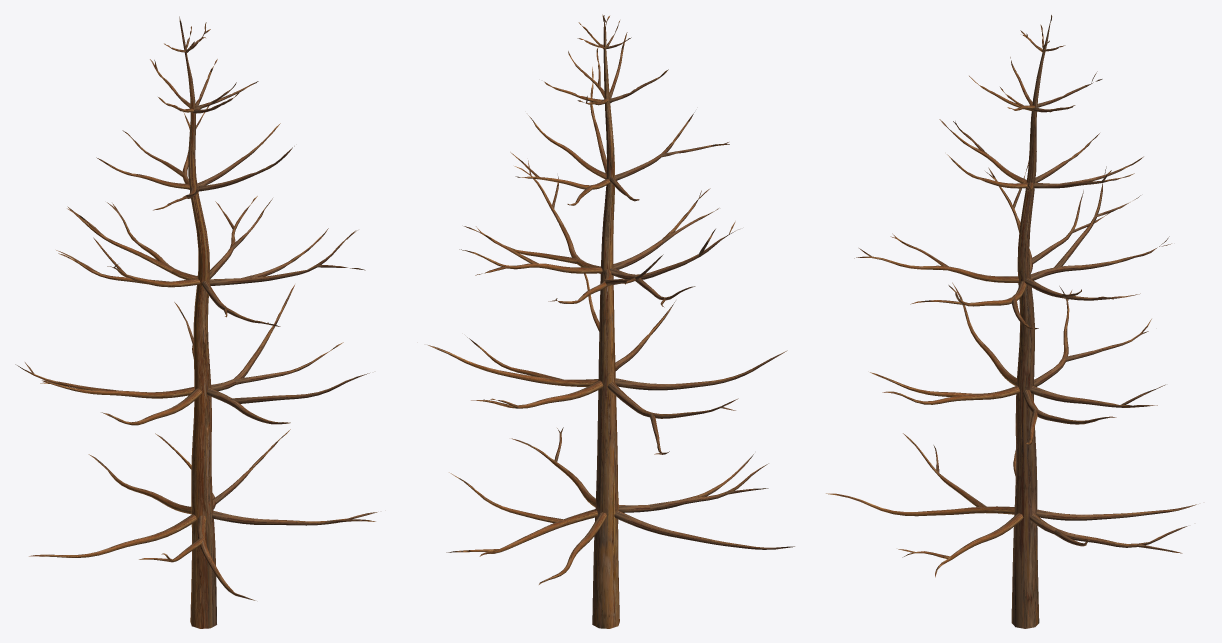
The model's file is bare-tree.glb.
The picture shows the model from 3 angles, left to right: view 1: azimuth 30°, elevation 25°; view 2: azimuth 150°, elevation 25°; view 3: azimuth 270°, elevation 25°; orthographic projection. The views are drawn at different scales.
Parts seen in each view (by area): view 1: tree; view 2: tree; view 3: tree.
Boxes of the visible parts, x1=… form: tree: x1=15, y1=16, x2=377, y2=628; tree: x1=428, y1=14, x2=794, y2=628; tree: x1=826, y1=15, x2=1196, y2=628.
Size of the model in its own units: 2.63 by 4.73 by 2.72.
Materials: 1 (1 with a texture image).
